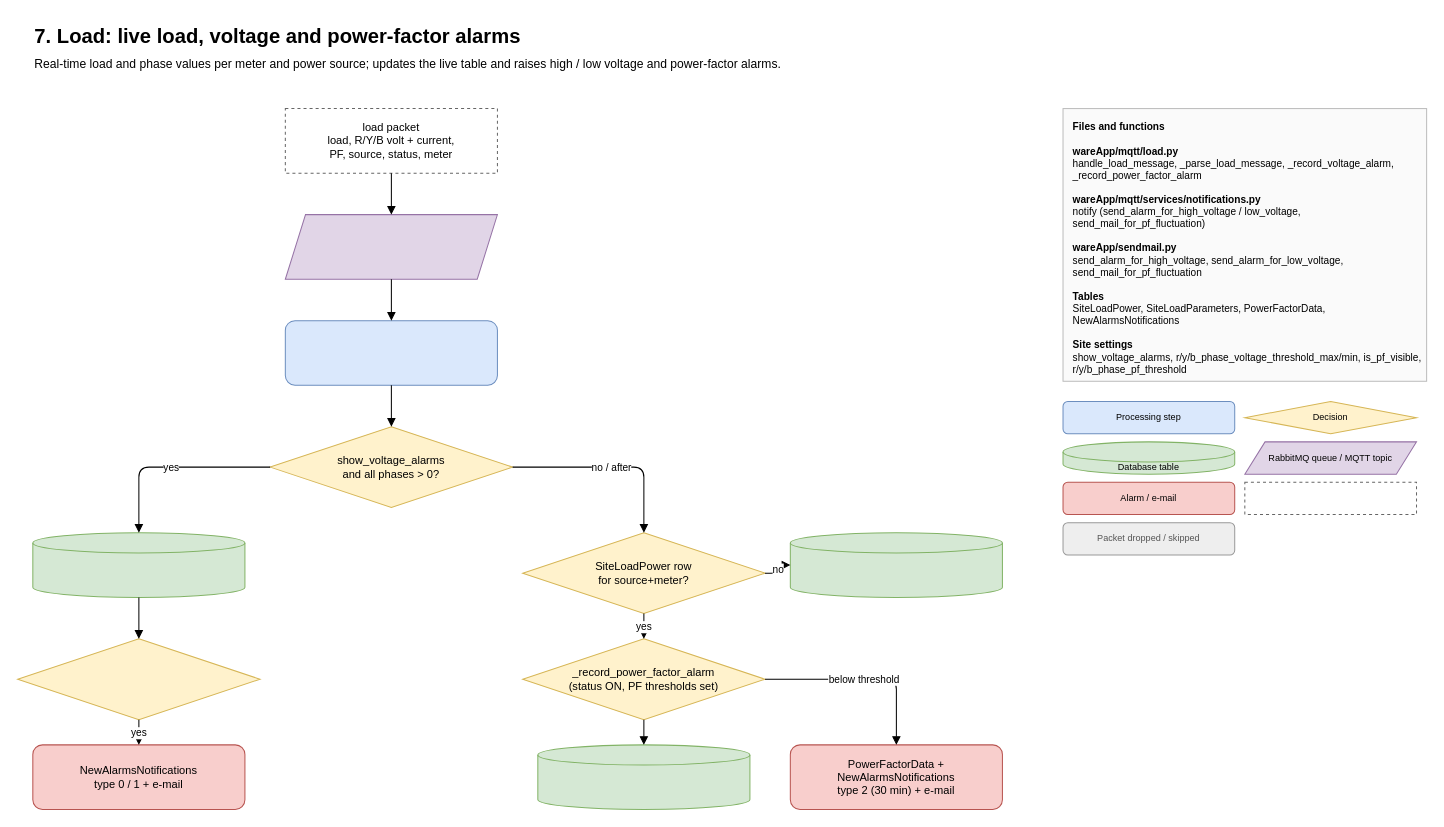
Some shapes in this 1444 by 827 pixel diagram are drawn without their labels. Each missing label, with the box of its shape:
_parse_load_message: (284, 320, 497, 385)
_record_voltage_alarm high (0) and low (1): store SiteLoadParameters: (32, 532, 245, 597)
create SiteLoadPower (first packet): (789, 532, 1002, 597)
External: gateway, broker, timer: (1244, 481, 1417, 515)
last 5 readings all outside thresholds and none in 30 min?: (17, 638, 260, 720)
queue1_processing: (284, 214, 497, 279)
update SiteLoadPower load, volts, currents, PF: (537, 744, 750, 810)
